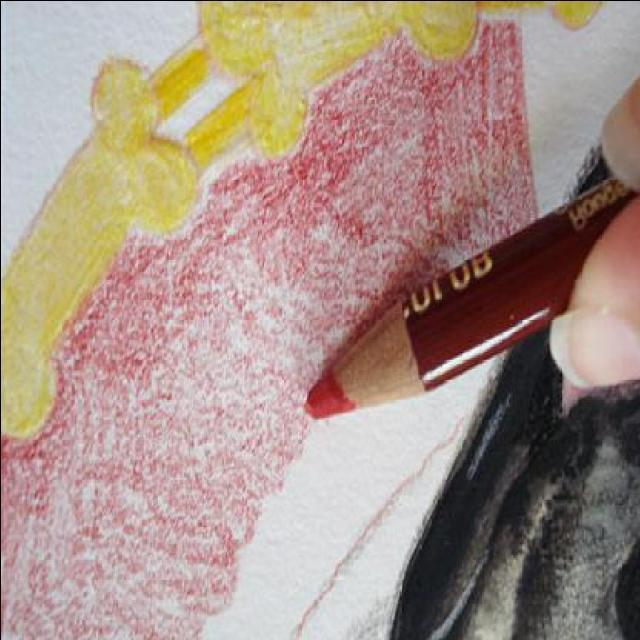Pencil: (293, 264, 470, 448)
